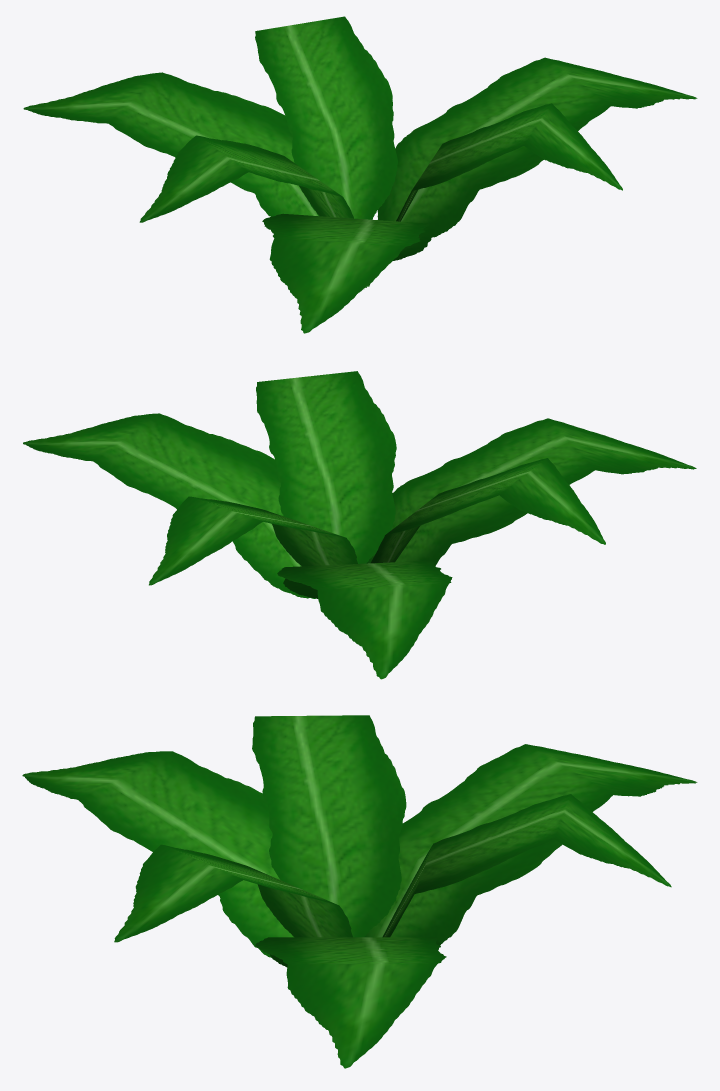
The model's file is bush02.obj.
3 views of the same model, one above another, from view 1: azimuth 30°, elevation 25°; view 2: azimuth 150°, elevation 25°; view 3: azimuth 270°, elevation 25° (orthographic). The views are drawn at different scales.
Parts seen in each view (by area): view 1: Duplicate03, Triangles, Duplicate01, Duplicate02; view 2: Duplicate03, Triangles, Duplicate02, Duplicate01; view 3: Duplicate03, Duplicate02, Duplicate01, Triangles.
Boxes of the visible parts, left/top/right/bottom form: Duplicate03: left=139, top=16, right=622, bottom=287; Triangles: left=369, top=57, right=697, bottom=285; Duplicate01: left=23, top=72, right=318, bottom=216; Duplicate02: left=262, top=213, right=434, bottom=333; Duplicate03: left=149, top=371, right=605, bottom=585; Triangles: left=23, top=413, right=315, bottom=598; Duplicate02: left=366, top=418, right=696, bottom=566; Duplicate01: left=277, top=560, right=452, bottom=679; Duplicate03: left=114, top=715, right=671, bottom=942; Duplicate02: left=22, top=751, right=293, bottom=960; Duplicate01: left=364, top=744, right=697, bottom=943; Triangles: left=255, top=937, right=446, bottom=1068.
Size of the model in its own units: 38.22 by 11.81 by 34.61.
